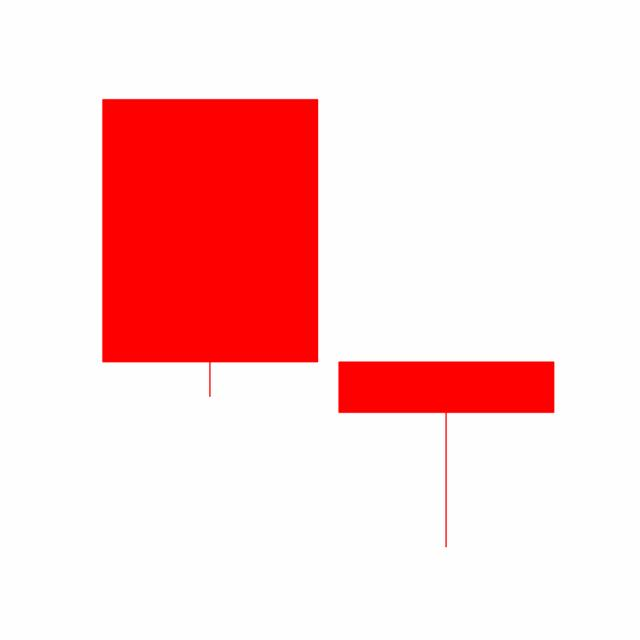Hammer: (327, 359, 565, 550)
